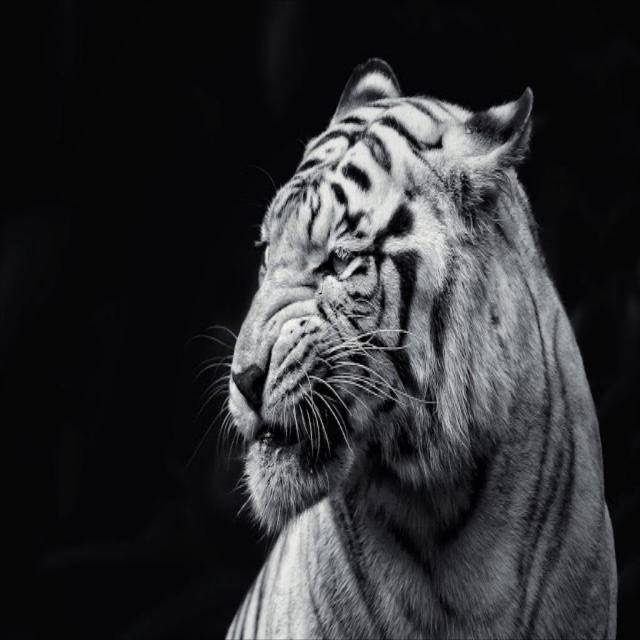Tiger: (200, 54, 617, 640)
